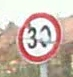limite 30: (15, 10, 62, 64)
